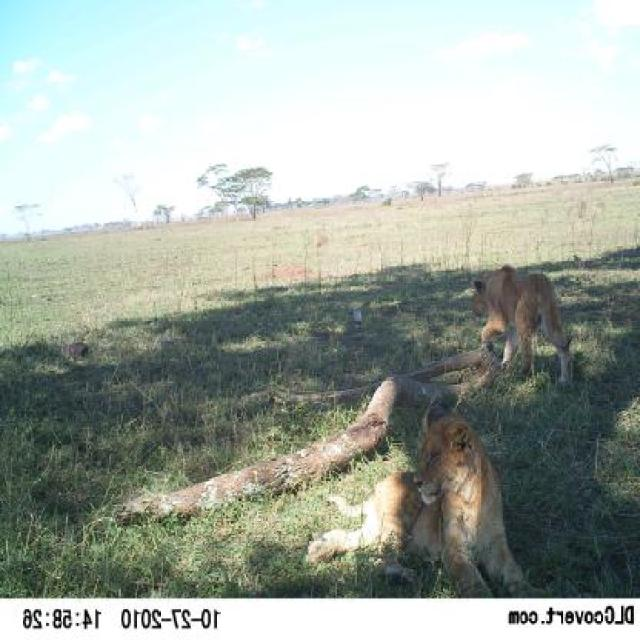Lion: (291, 408, 540, 604), (448, 254, 595, 386)
